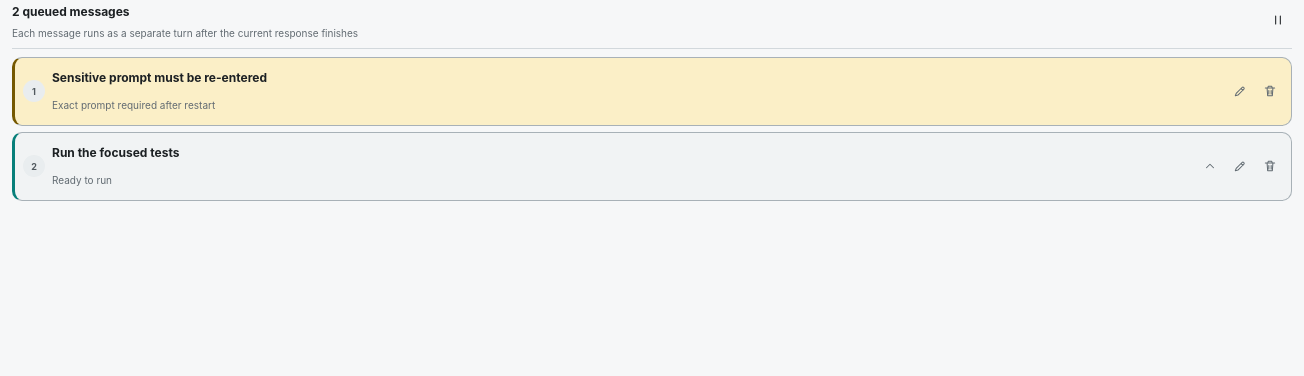
Test case: conversation queue panel › prefills only a complete persisted-safe prompt for editing
The width and height of the screenshot is (1304, 376).
Click the button named "Replace queued message": (1240, 166) [1226,152,1253,180]
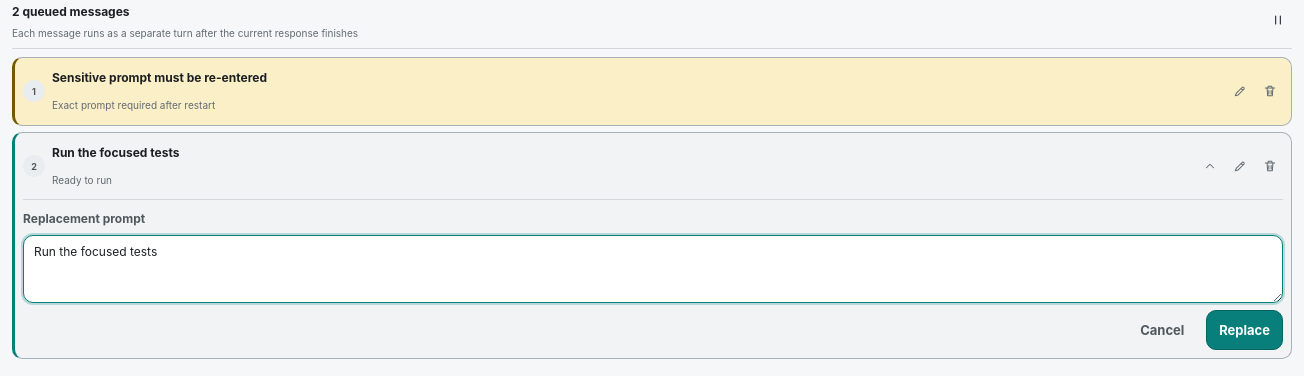
Check: the text box labelled "Replacement prompt" holds "Run the focused tests", box [23,234,1283,302]
